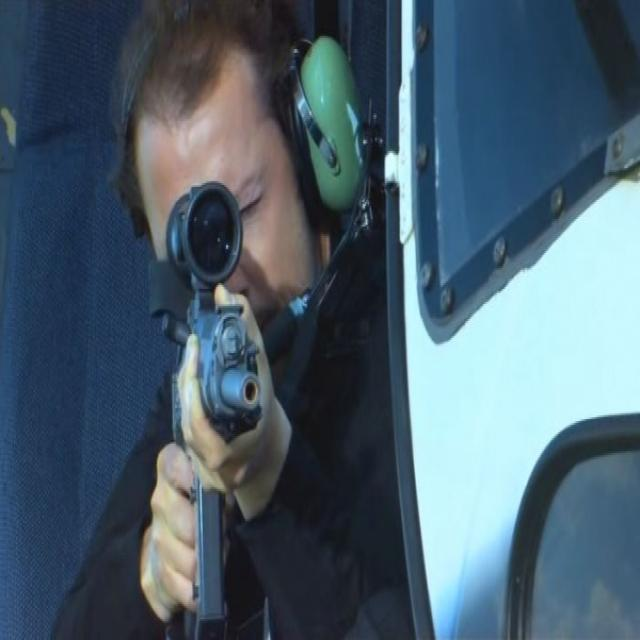rifle: (146, 177, 267, 637)
